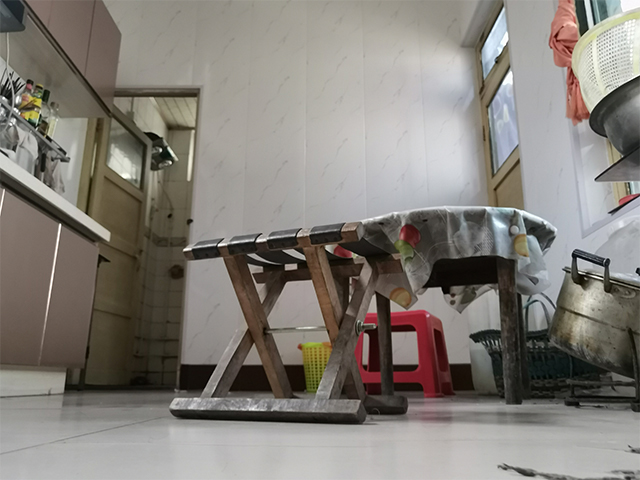cabinet: (1, 150, 114, 397)
stool: (167, 220, 410, 426), (354, 308, 458, 399)
table: (336, 202, 560, 406)
trashcan: (296, 341, 333, 393)
